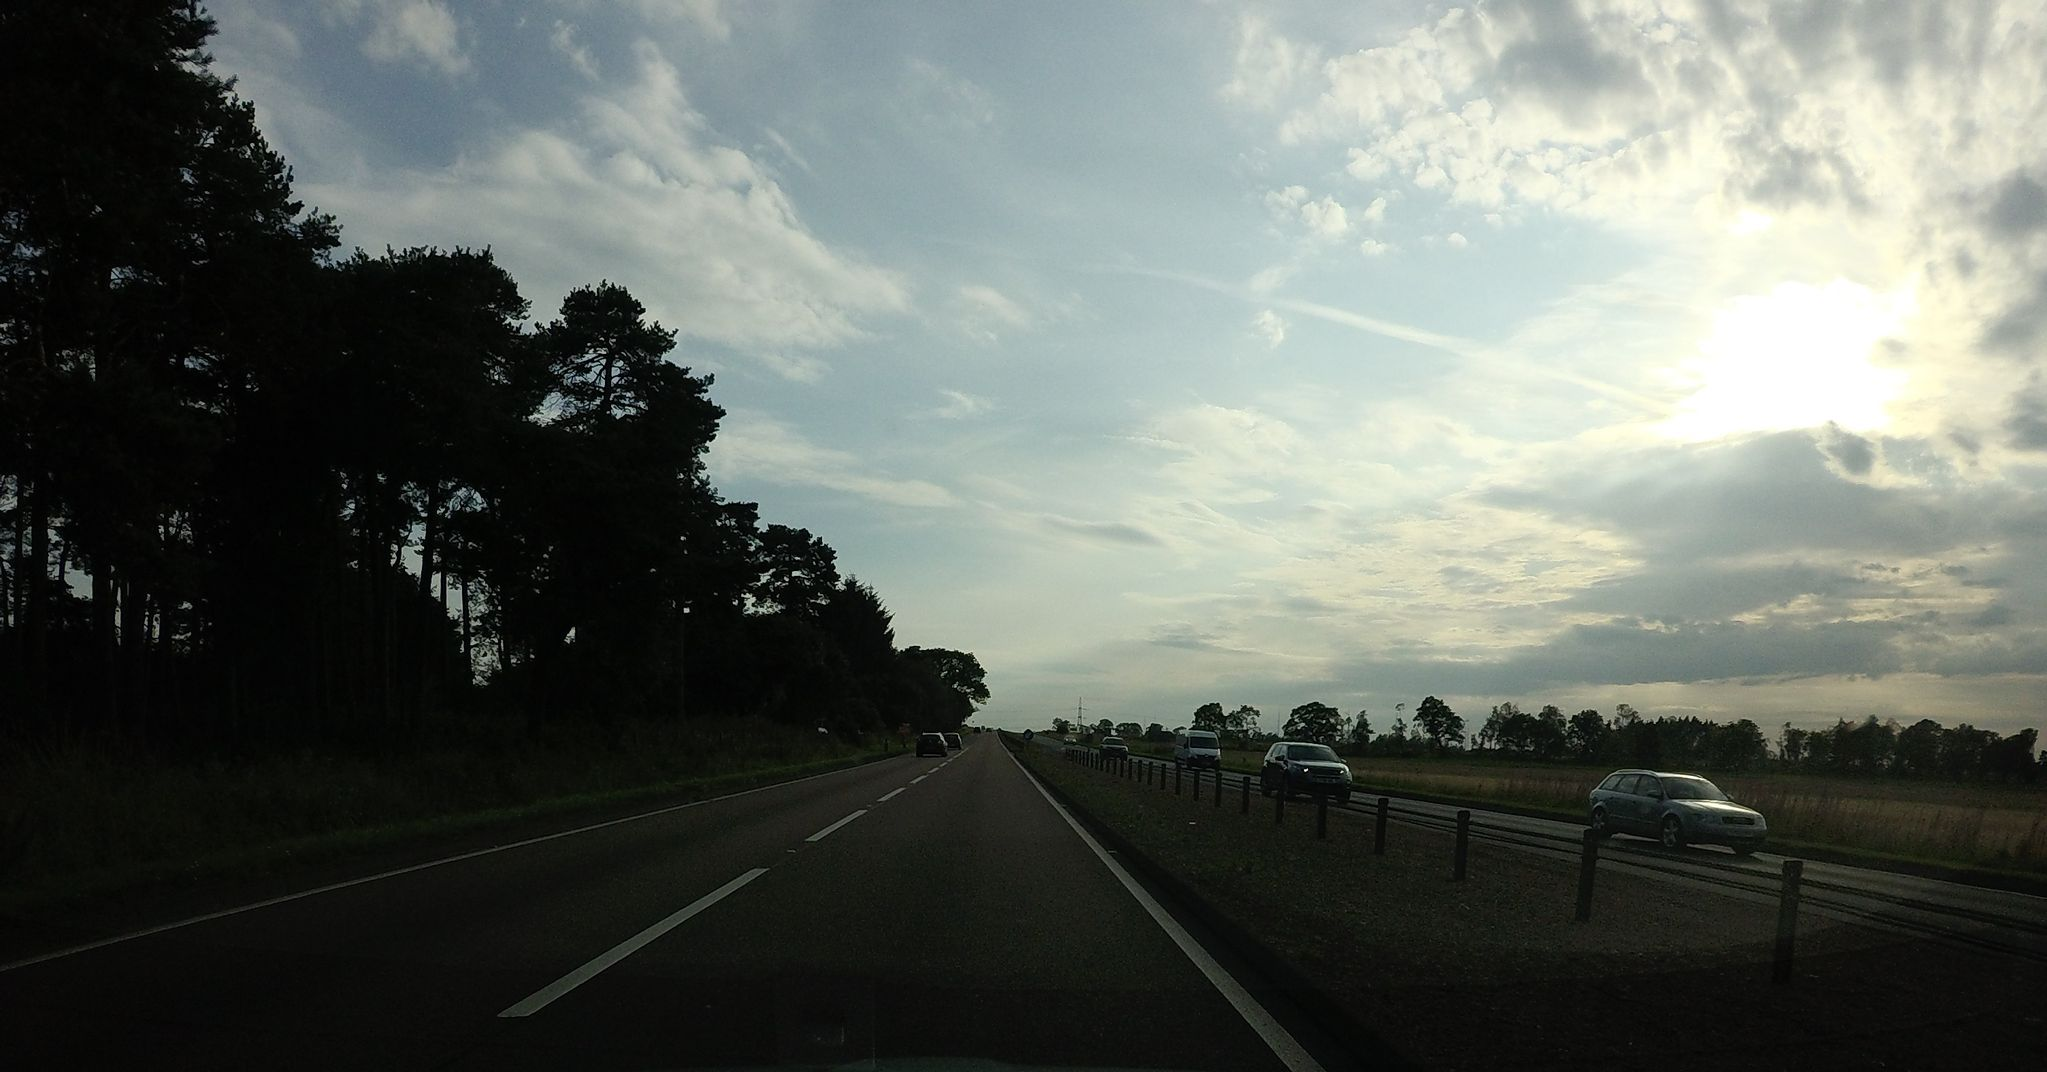car: (1588, 767, 1768, 855), (1259, 740, 1352, 803), (1174, 728, 1221, 772), (915, 731, 948, 757), (1098, 736, 1128, 759), (944, 732, 963, 750)
